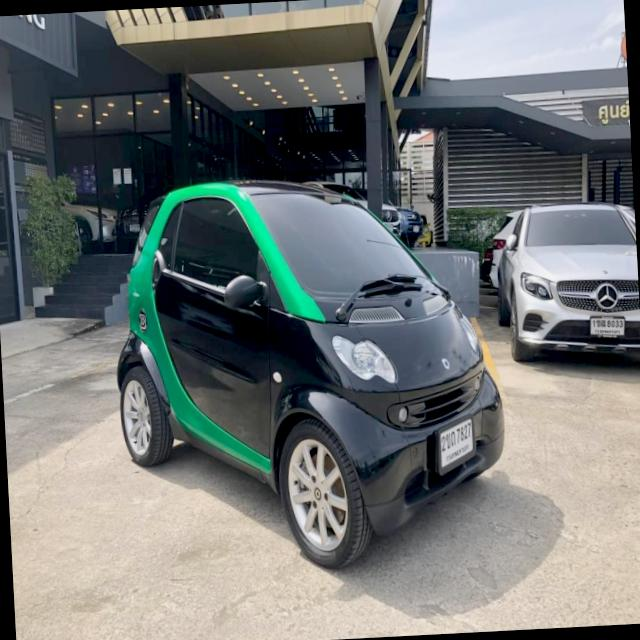license_plate: (435, 414, 477, 476), (588, 313, 630, 344)
